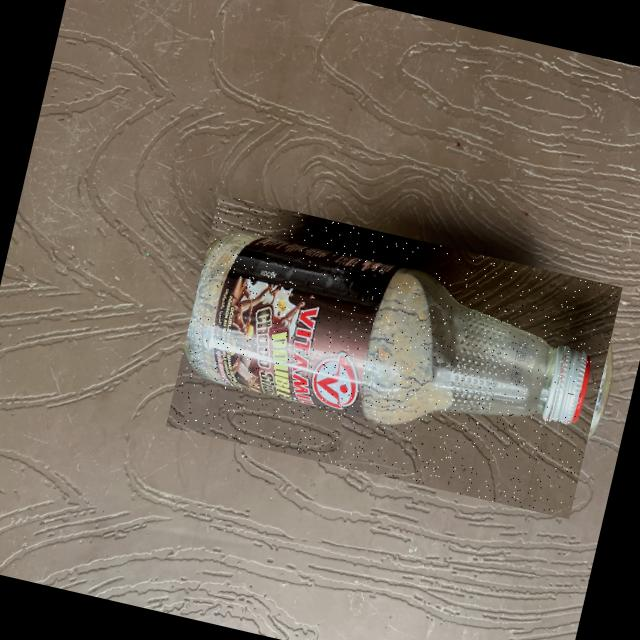REJECT: (165, 193, 622, 518)
